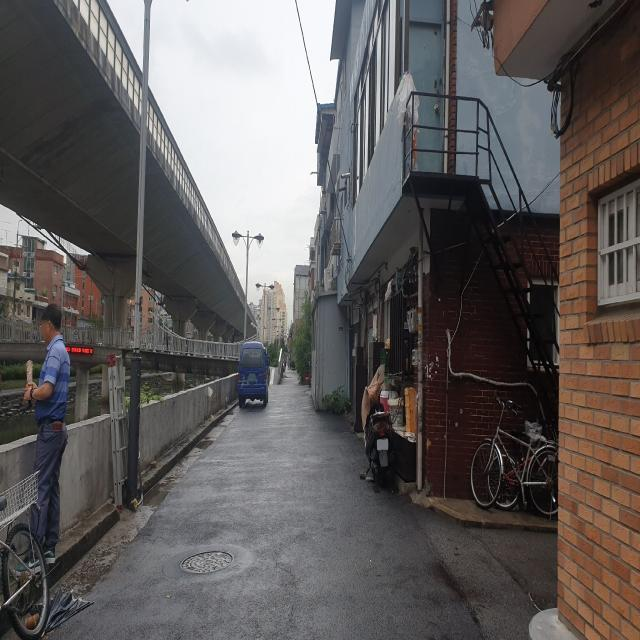car: (238, 341, 268, 408)
motorbike: (361, 364, 395, 487)
